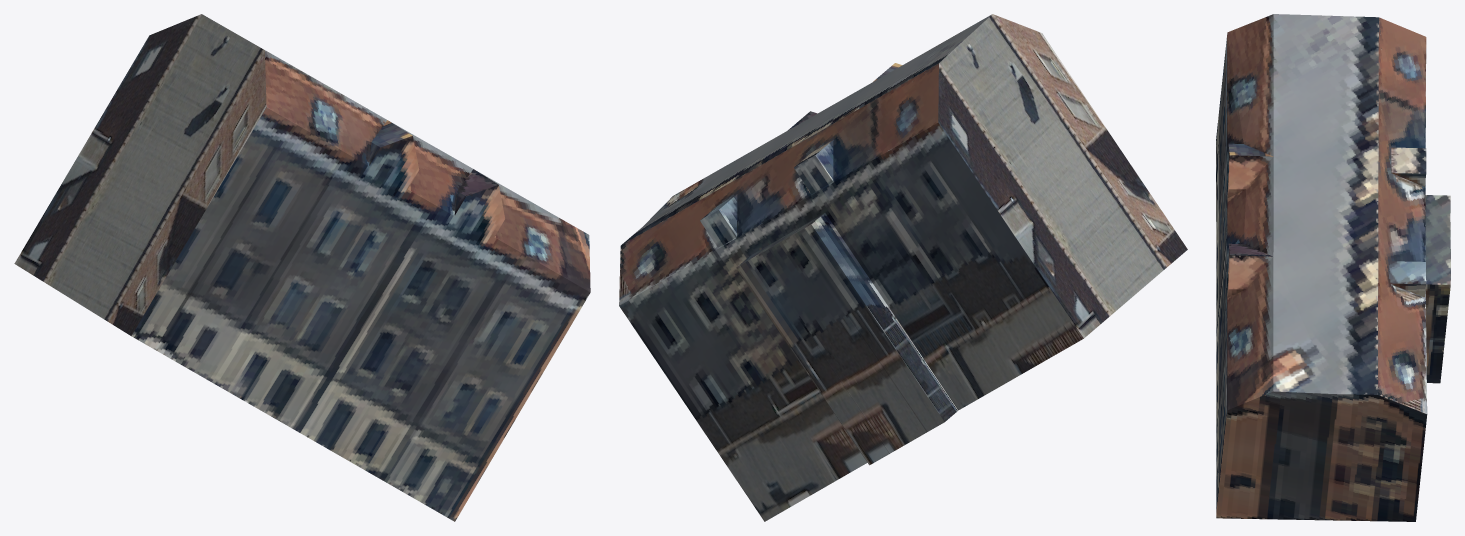
3 renders of one model, left to right at view 1: azimuth 30°, elevation 25°; view 2: azimuth 150°, elevation 25°; view 3: azimuth 270°, elevation 25°, orthographic. The views are drawn at different scales.
Visible parts, largest first — view 1: BAG_0599100000688733 (×5); view 2: BAG_0599100000688733 (×7); view 3: BAG_0599100000688733 (×8).
Part boxes in pixels (bbox=[...]): BAG_0599100000688733 (×5): bbox=[14, 14, 590, 521]; BAG_0599100000688733 (×7): bbox=[619, 14, 1187, 521]; BAG_0599100000688733 (×8): bbox=[1216, 14, 1450, 521].
Size of the model in its own units: 23.44 by 22.31 by 10.75.
9 materials, 9 textured.
